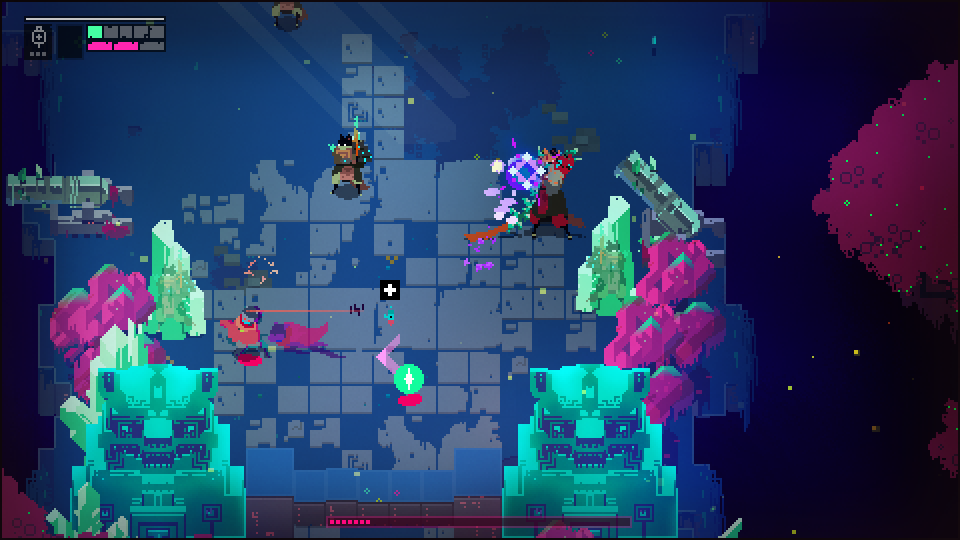hanged_man: (496, 142, 583, 237)
hanged_shot: (389, 363, 428, 399)
player: (220, 307, 263, 353)
